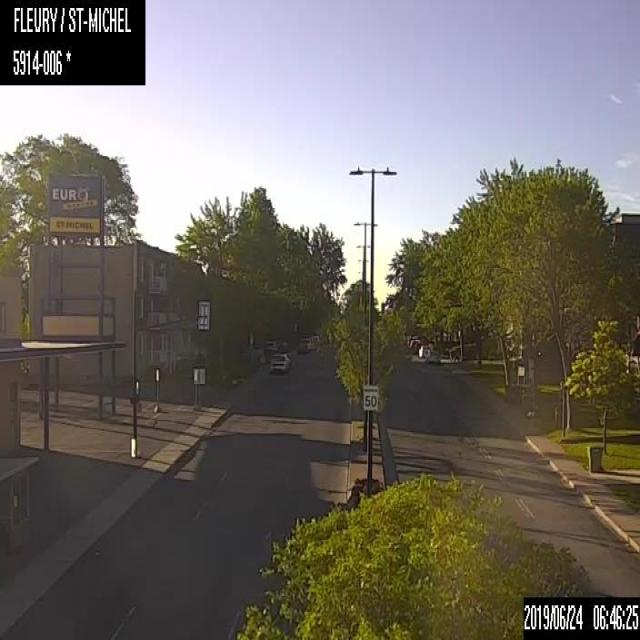vehicle: (267, 349, 291, 372), (296, 334, 319, 354), (418, 343, 437, 361)
